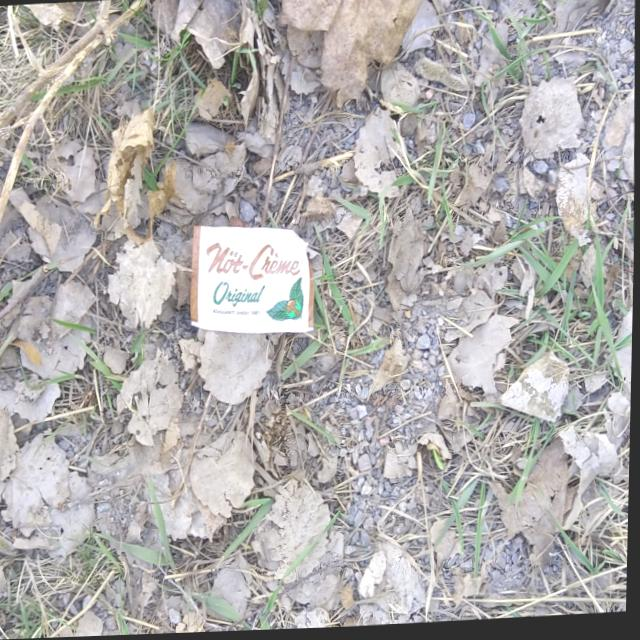Plastic: (181, 212, 322, 344)
